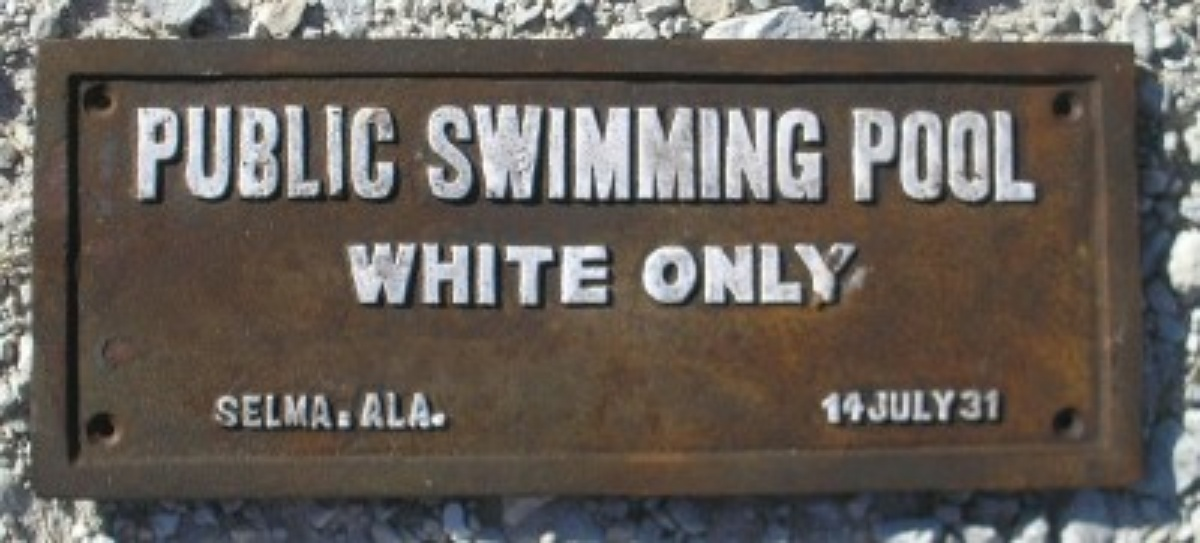text: (433, 100, 448, 202), (449, 100, 464, 202), (465, 100, 480, 202), (481, 100, 496, 202), (497, 100, 512, 202), (513, 100, 528, 202), (529, 100, 544, 202), (545, 100, 560, 202), (561, 100, 576, 202), (577, 100, 592, 202), (593, 100, 608, 202), (609, 100, 624, 202), (625, 100, 640, 202), (641, 100, 656, 202), (657, 100, 672, 202), (673, 100, 688, 202), (689, 100, 704, 202), (705, 100, 720, 202), (721, 100, 736, 202), (737, 100, 752, 202), (753, 100, 768, 202), (769, 100, 784, 202), (785, 100, 800, 202), (801, 100, 816, 202), (145, 103, 160, 202), (161, 103, 176, 202), (177, 103, 192, 202), (193, 103, 208, 202), (209, 103, 224, 202), (225, 103, 240, 202), (241, 103, 256, 202), (257, 103, 272, 202), (273, 103, 288, 202), (289, 103, 304, 202), (305, 103, 320, 202), (321, 103, 336, 202), (337, 103, 352, 202), (353, 103, 368, 202), (369, 103, 384, 202), (865, 106, 880, 202), (881, 106, 896, 202), (897, 106, 912, 202), (913, 106, 928, 202), (929, 106, 944, 202), (945, 106, 960, 202), (961, 106, 976, 202), (977, 106, 992, 202), (993, 106, 1008, 202), (1009, 106, 1024, 202), (850, 106, 864, 202), (1025, 106, 1039, 202), (385, 103, 397, 202), (133, 103, 144, 202), (593, 241, 609, 307), (353, 241, 368, 307), (369, 241, 384, 307), (385, 241, 400, 307), (401, 241, 416, 307), (417, 241, 432, 307), (433, 241, 448, 307), (449, 241, 464, 307), (465, 241, 480, 307), (481, 241, 496, 307), (497, 241, 512, 307), (513, 241, 528, 307), (529, 241, 544, 307), (545, 241, 560, 307), (561, 241, 576, 307), (577, 241, 592, 307), (657, 241, 672, 304), (673, 241, 688, 304), (689, 241, 704, 304), (705, 241, 720, 304), (721, 241, 736, 304), (737, 241, 752, 304), (753, 241, 768, 304), (769, 241, 784, 304), (785, 241, 800, 304), (801, 241, 816, 304), (817, 241, 832, 304), (833, 241, 848, 304), (817, 100, 826, 202), (339, 241, 352, 307), (849, 241, 862, 304), (424, 100, 432, 202), (225, 388, 240, 436), (241, 388, 256, 436), (257, 388, 272, 436), (273, 388, 288, 436), (289, 388, 304, 436), (305, 388, 320, 436), (321, 388, 336, 436), (337, 388, 352, 436), (353, 388, 368, 436), (369, 388, 384, 436), (385, 388, 400, 436), (401, 388, 416, 436), (417, 388, 432, 436), (433, 388, 448, 436), (646, 241, 656, 304), (833, 385, 848, 427), (849, 385, 864, 427), (865, 385, 880, 427), (881, 385, 896, 427), (897, 385, 912, 427), (913, 385, 928, 427), (929, 385, 944, 427), (945, 385, 960, 427), (961, 385, 976, 427), (977, 385, 992, 427), (211, 388, 224, 436), (993, 385, 1006, 427), (820, 385, 832, 427), (449, 388, 451, 436)
